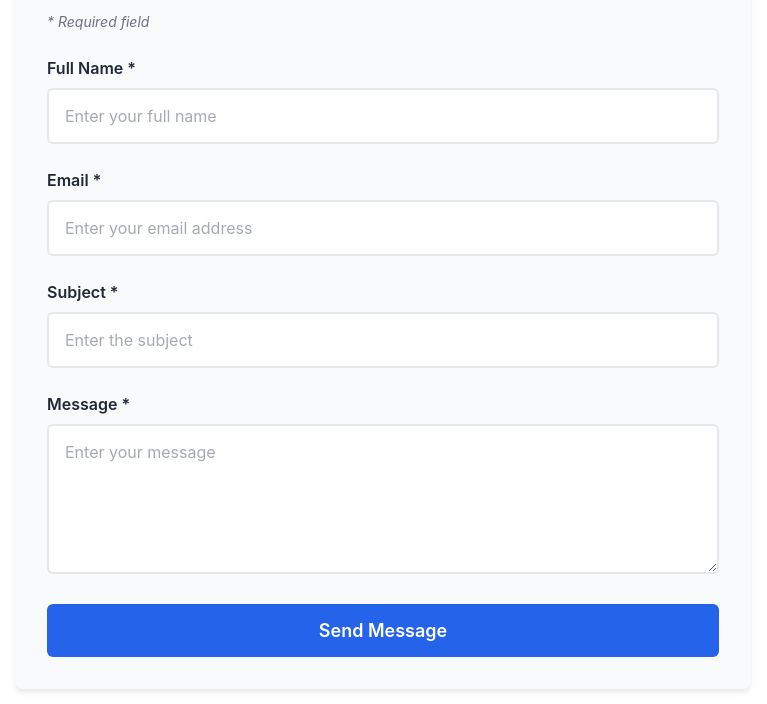
Test: ContactPage › requires all form fields to be filled
The image size is (767, 704).
(page scrolled)
Click the button "Send Message": coordinates (383, 630) left=47, top=604, right=719, bottom=656
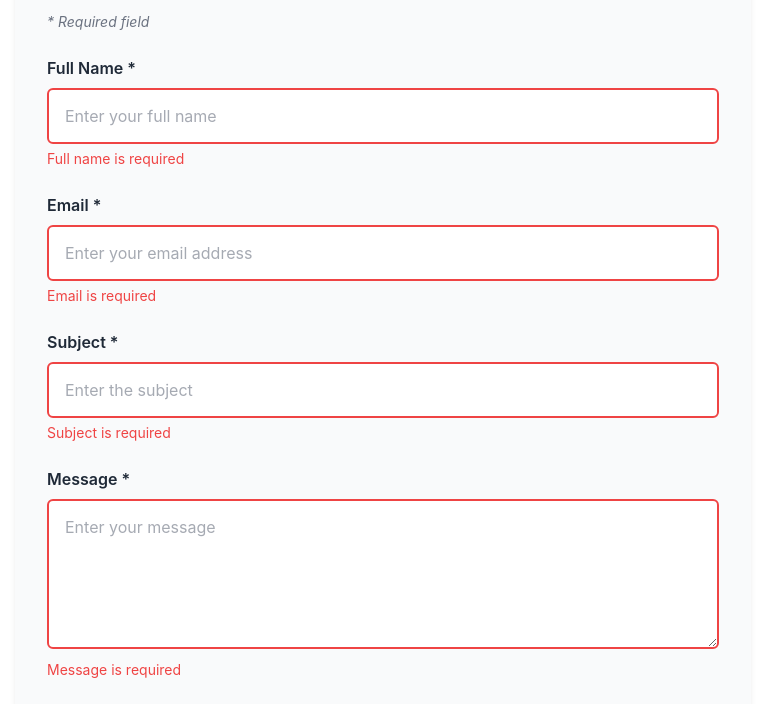
expect the text "Full name is required" is shown: met, box left=47, top=150, right=184, bottom=166
expect the text "Email is required" is shown: met, box left=47, top=286, right=156, bottom=304
